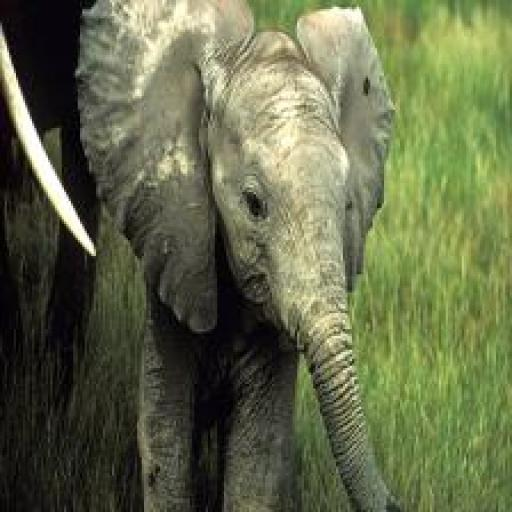Elephant: (76, 0, 412, 512)
